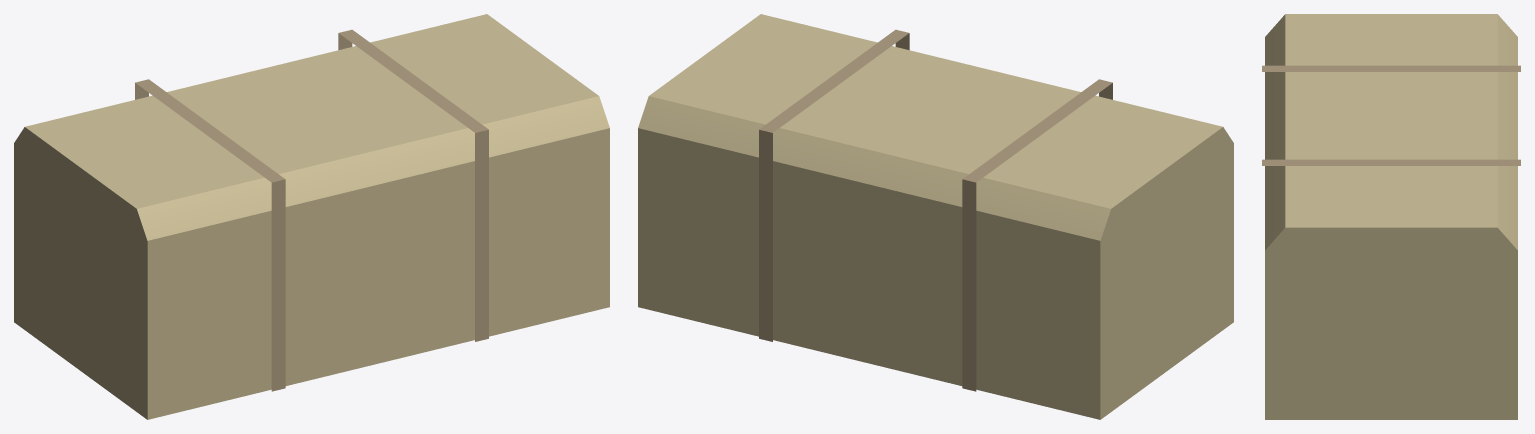
The model's file is SM_BM_BHip_HayBale.glb.
3 views of the same model, side by side, from view 1: azimuth 30°, elevation 25°; view 2: azimuth 150°, elevation 25°; view 3: azimuth 270°, elevation 25° (orthographic). The views are drawn at different scales.
Visible parts, largest first — view 1: SM_BM_BHip_HayBale; view 2: SM_BM_BHip_HayBale; view 3: SM_BM_BHip_HayBale.
Part boxes in pixels (x1,y1,x2,y2): SM_BM_BHip_HayBale: [14, 14, 609, 419]; SM_BM_BHip_HayBale: [638, 14, 1233, 419]; SM_BM_BHip_HayBale: [1262, 14, 1520, 419].
Size of the model in its own units: 1 by 0.432 by 0.512.
